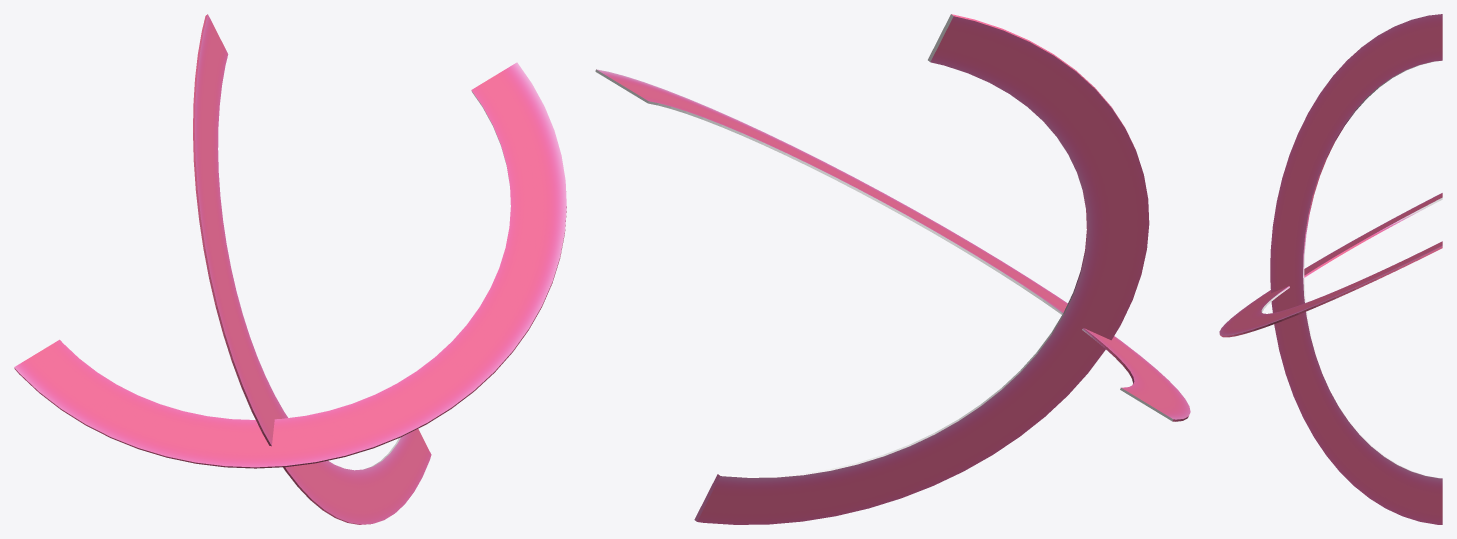
The model's file is Silenced.glb.
3 views of the same model, side by side, from view 1: azimuth 30°, elevation 25°; view 2: azimuth 150°, elevation 25°; view 3: azimuth 270°, elevation 25° (orthographic). The views are drawn at different scales.
Visible parts, largest first — view 1: Cylinder.004; view 2: Cylinder.004; view 3: Cylinder.004.
Part boxes in pixels (box(x1,y1,x2,y2)): Cylinder.004: box(14, 14, 566, 524); Cylinder.004: box(595, 14, 1190, 524); Cylinder.004: box(1219, 14, 1442, 524).
Bounding box in the file's own units: 5.77 × 5.52 × 2.61.
Materials: 1 (1 with a texture image).
